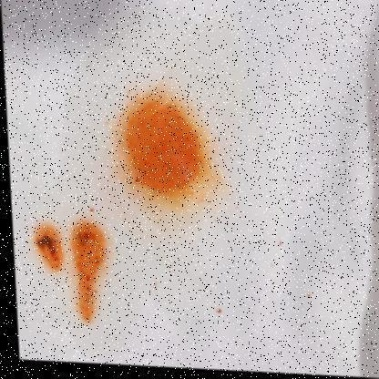kimchi: (118, 91, 217, 200), (67, 217, 108, 325), (33, 220, 59, 265), (210, 304, 223, 320), (87, 200, 97, 214)
